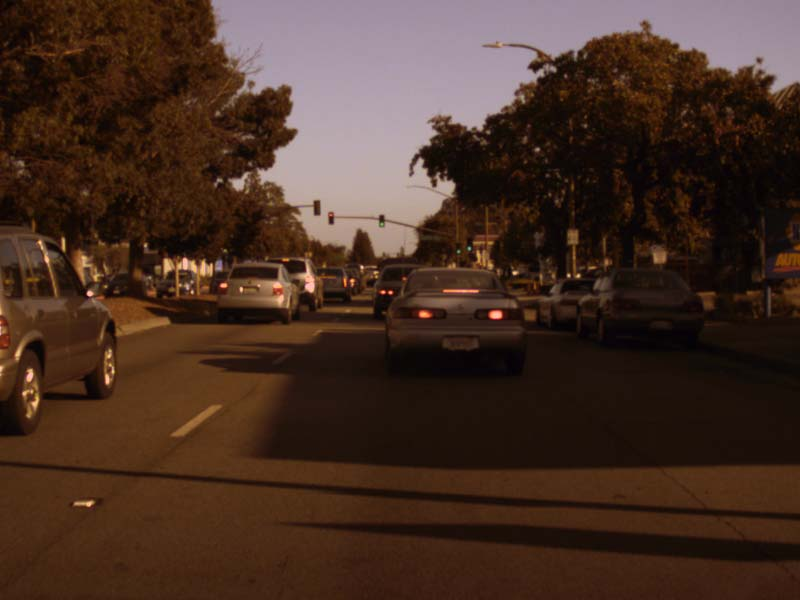Green: (378, 213, 384, 227), (466, 237, 471, 252), (455, 242, 461, 254)
Red: (327, 211, 334, 224)
